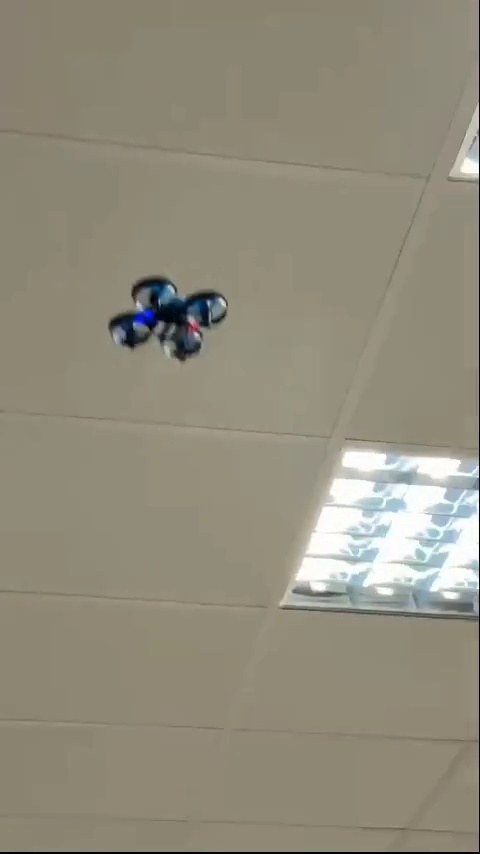drone: (107, 273, 231, 369)
